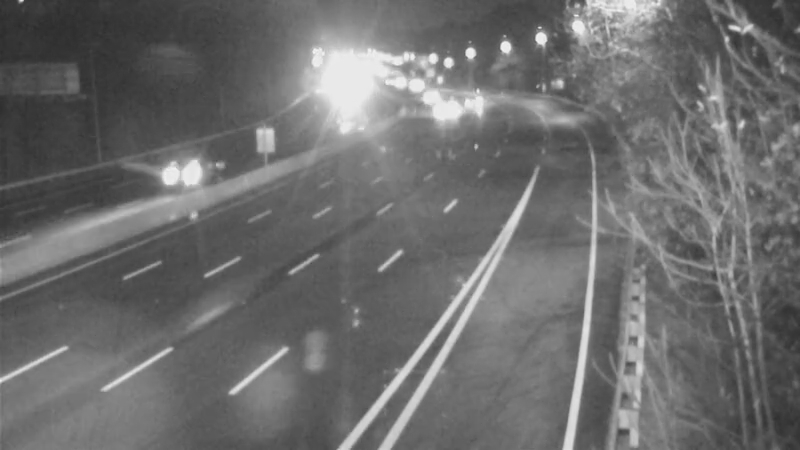vehicle: (134, 139, 214, 219), (418, 84, 468, 134)
